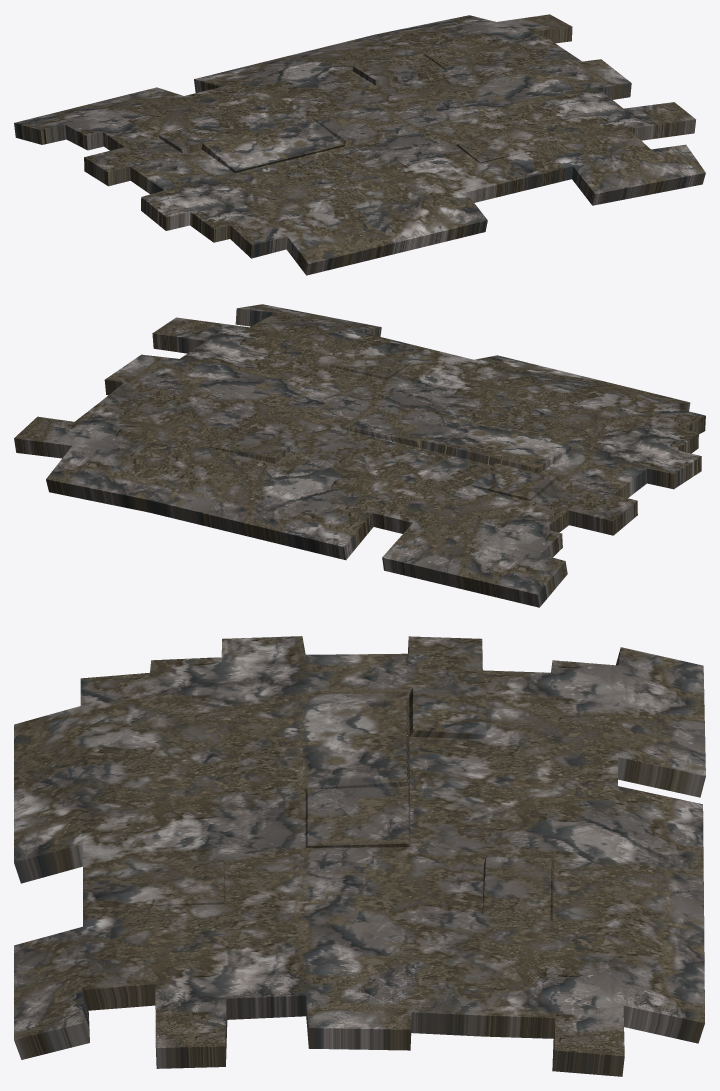
The model's file is BigTiles1.fbx.
The picture shows the model from 3 angles, top to bottom: view 1: azimuth 30°, elevation 25°; view 2: azimuth 150°, elevation 25°; view 3: azimuth 270°, elevation 25°; orthographic projection. The views are drawn at different scales.
Visible parts, largest first — view 1: BigTiles1; view 2: BigTiles1; view 3: BigTiles1.
Part boxes in pixels (bbox=[...]): BigTiles1: bbox=[14, 14, 705, 275]; BigTiles1: bbox=[14, 304, 705, 607]; BigTiles1: bbox=[14, 636, 705, 1076].
Bounding box in the file's own units: 772 × 572 × 63.92.
